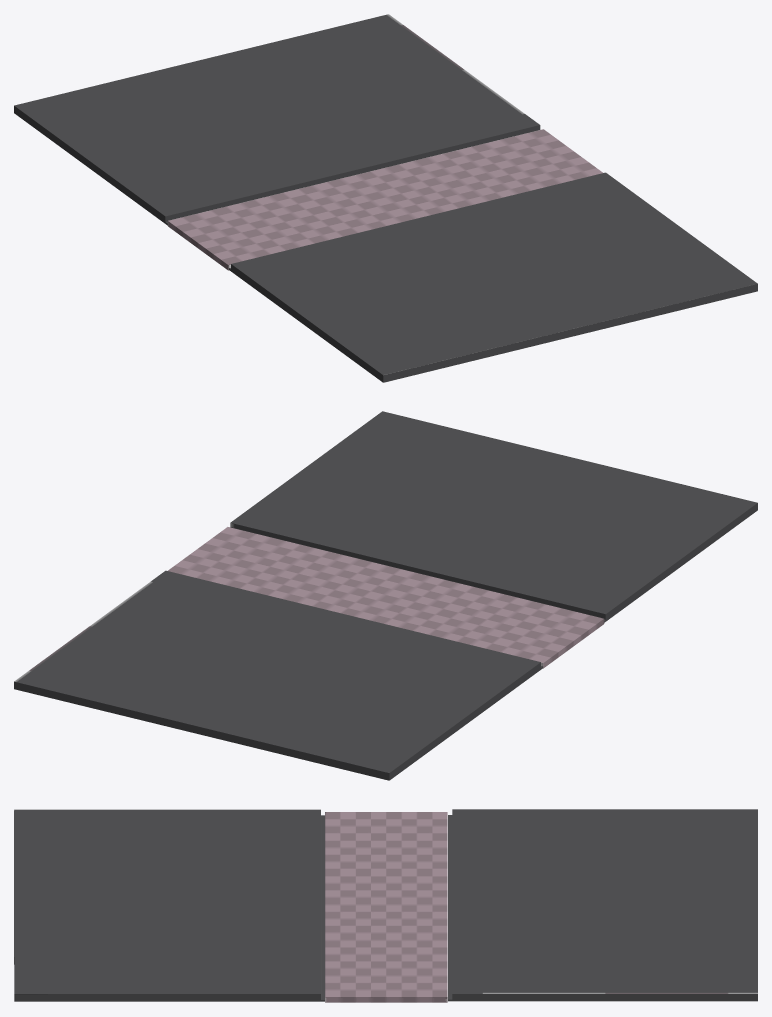
The model's file is WET MARKET ROAD.fbx.
3 views of the same model, one above another, from view 1: azimuth 30°, elevation 25°; view 2: azimuth 150°, elevation 25°; view 3: azimuth 270°, elevation 25° (orthographic).
Parts seen in each view (by area): view 1: wet maerke; view 2: wet maerke; view 3: wet maerke.
Boxes of the visible parts, x1,y1,x2,y2 form: wet maerke: [14, 14, 757, 382]; wet maerke: [14, 411, 757, 780]; wet maerke: [14, 809, 757, 1002].
Bounding box in the file's own units: 2792 × 58.49 × 4743.
1 material, 1 textured.
